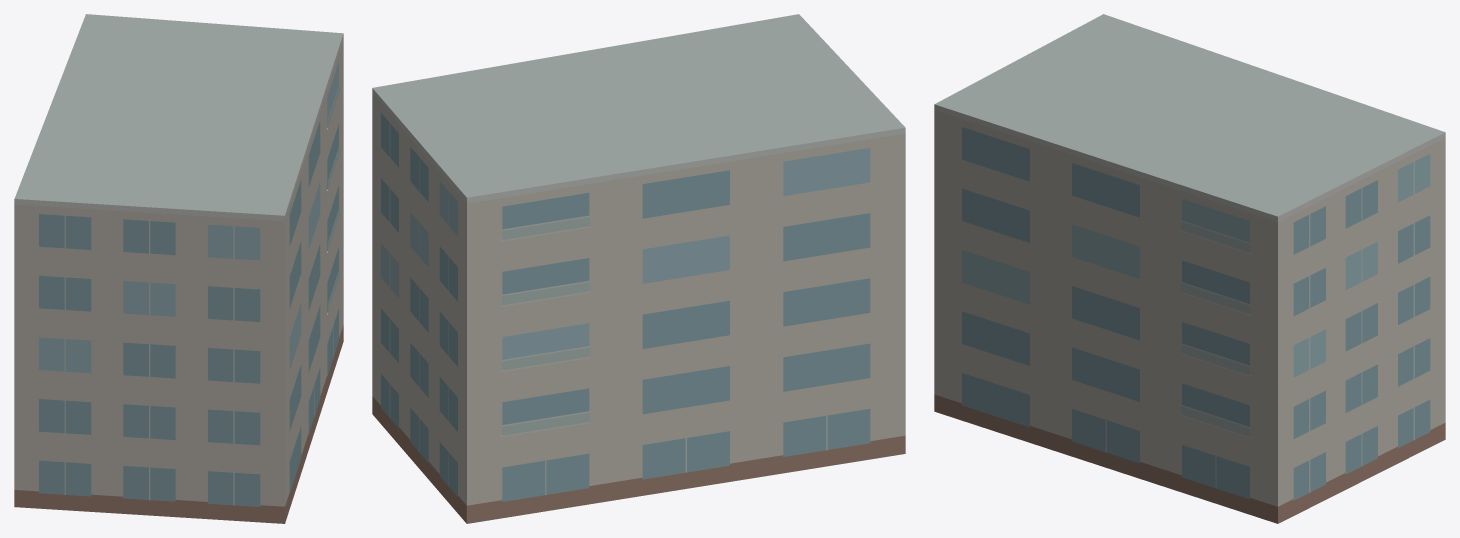
The model's file is survey-upis-32819037.glb.
3 views of the same model, side by side, from view 1: azimuth 30°, elevation 25°; view 2: azimuth 150°, elevation 25°; view 3: azimuth 270°, elevation 25° (orthographic). The views are drawn at different scales.
Visible parts, largest first — view 1: survey-upis-32819037.tmp; view 2: survey-upis-32819037.tmp; view 3: survey-upis-32819037.tmp.
Part boxes in pixels (x1,y1,x2,y2): survey-upis-32819037.tmp: [14, 14, 343, 523]; survey-upis-32819037.tmp: [372, 14, 905, 523]; survey-upis-32819037.tmp: [934, 14, 1445, 523].
Bounding box in the file's own units: 19.46 × 13.75 × 20.75.
